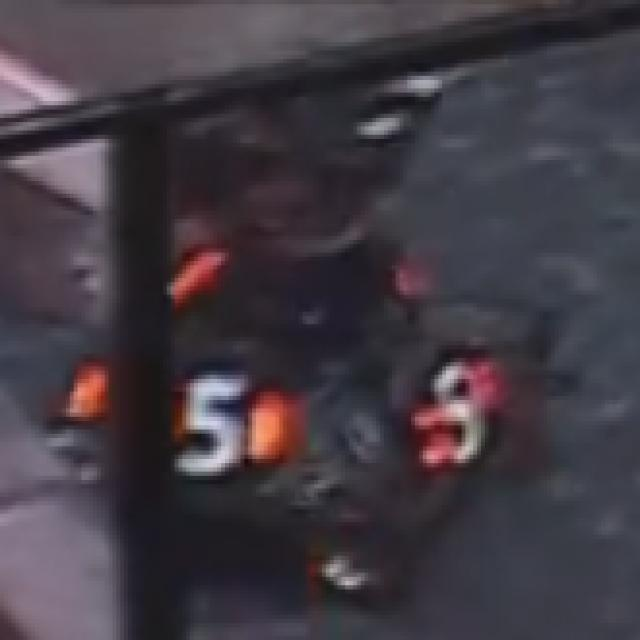R5: (167, 371, 275, 472), (419, 350, 496, 468)
